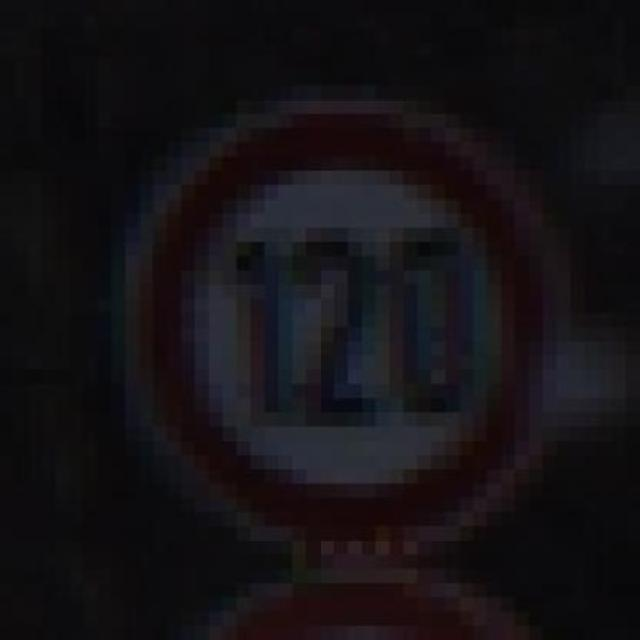forb_speed_over_120: (143, 120, 543, 549)
